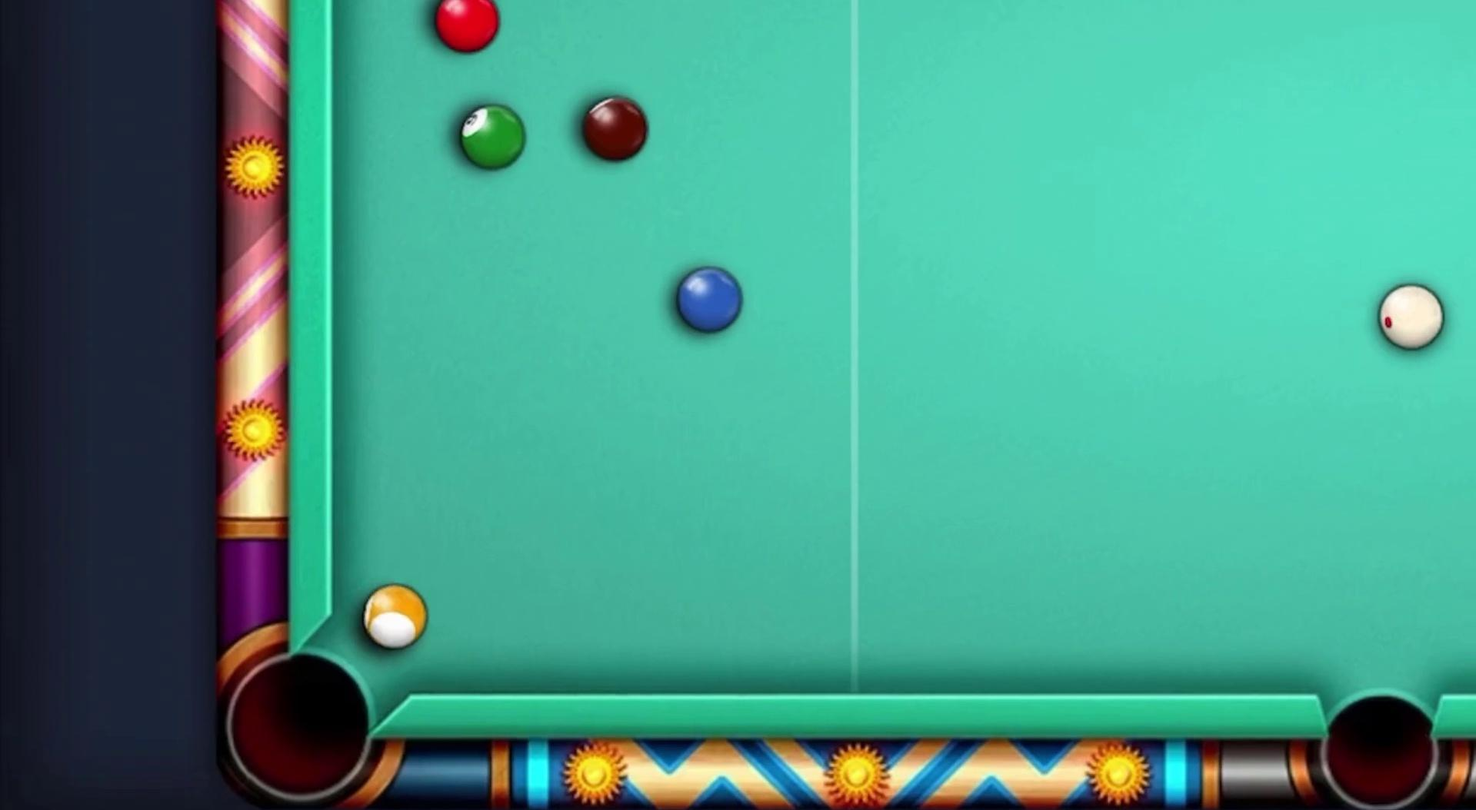Ball: (665, 263, 753, 341), (353, 576, 435, 658), (571, 92, 656, 167), (451, 99, 527, 170), (425, 0, 502, 54)
Hole: (205, 612, 407, 809), (1294, 673, 1461, 809)
White: (1371, 276, 1454, 358)
